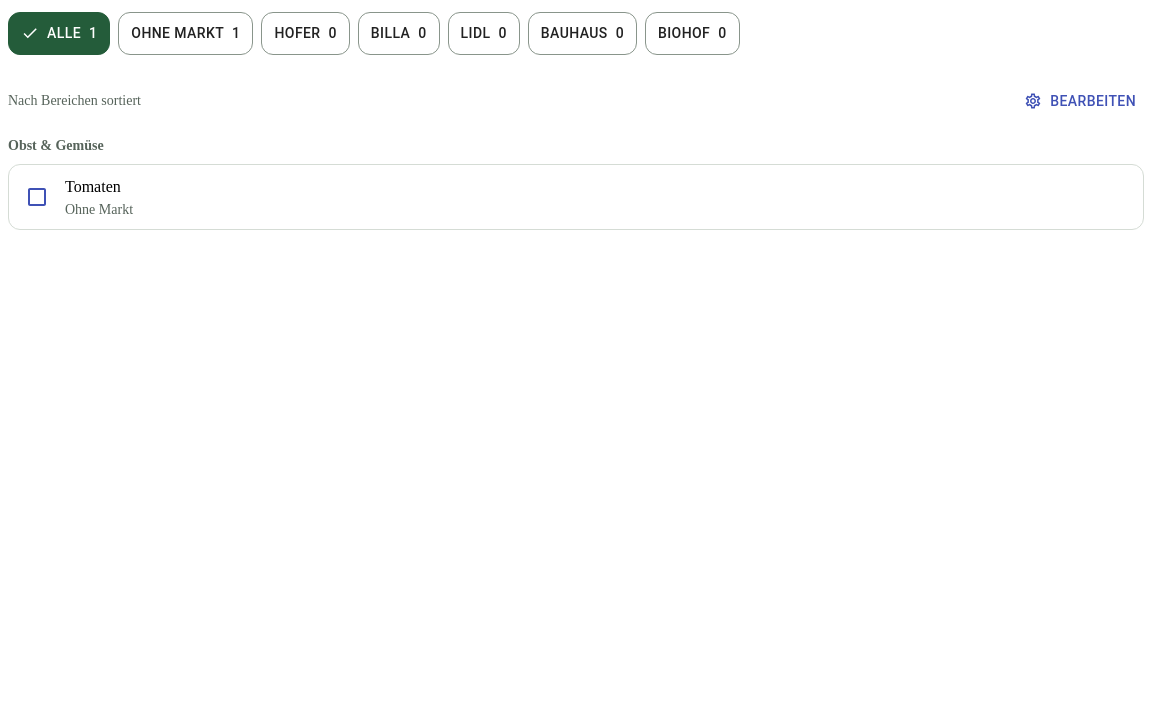
Test: retains a failed category draft across rollback and retries its destination
Click the button "Bearbeiten": click(1080, 101) [1016,82,1144,119]
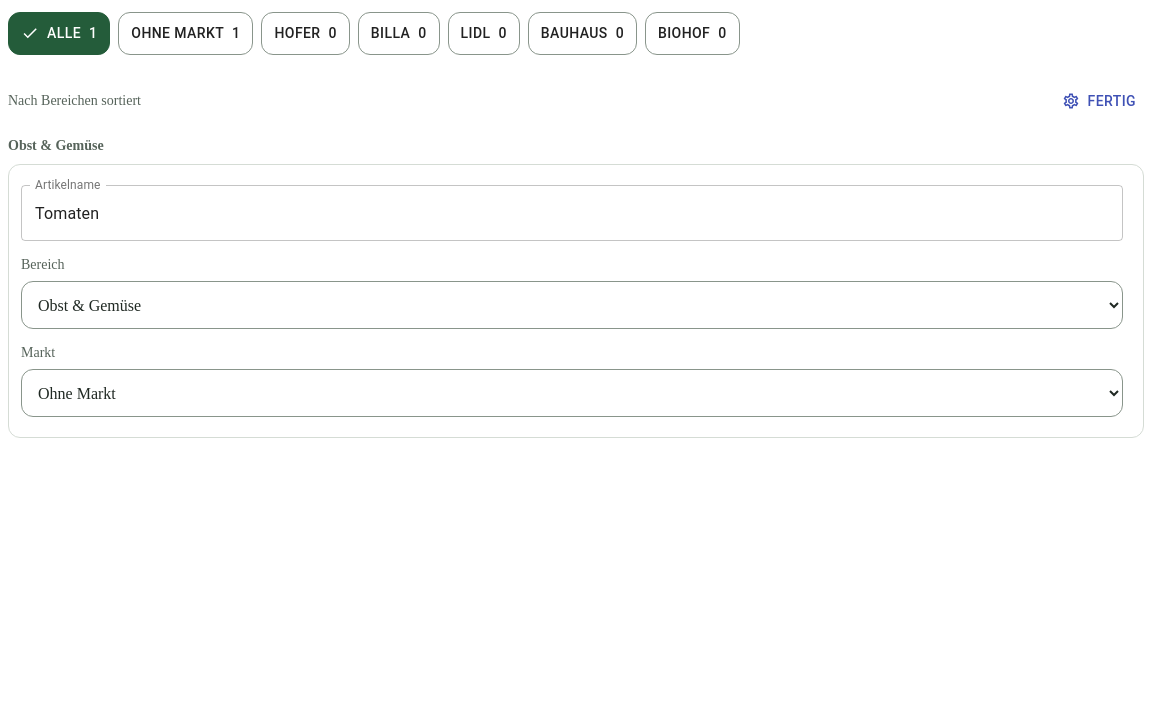
Select "Sonstiges" in the dropdown with id "grocery-area-tomato": (572, 305) [21,281,1123,329]
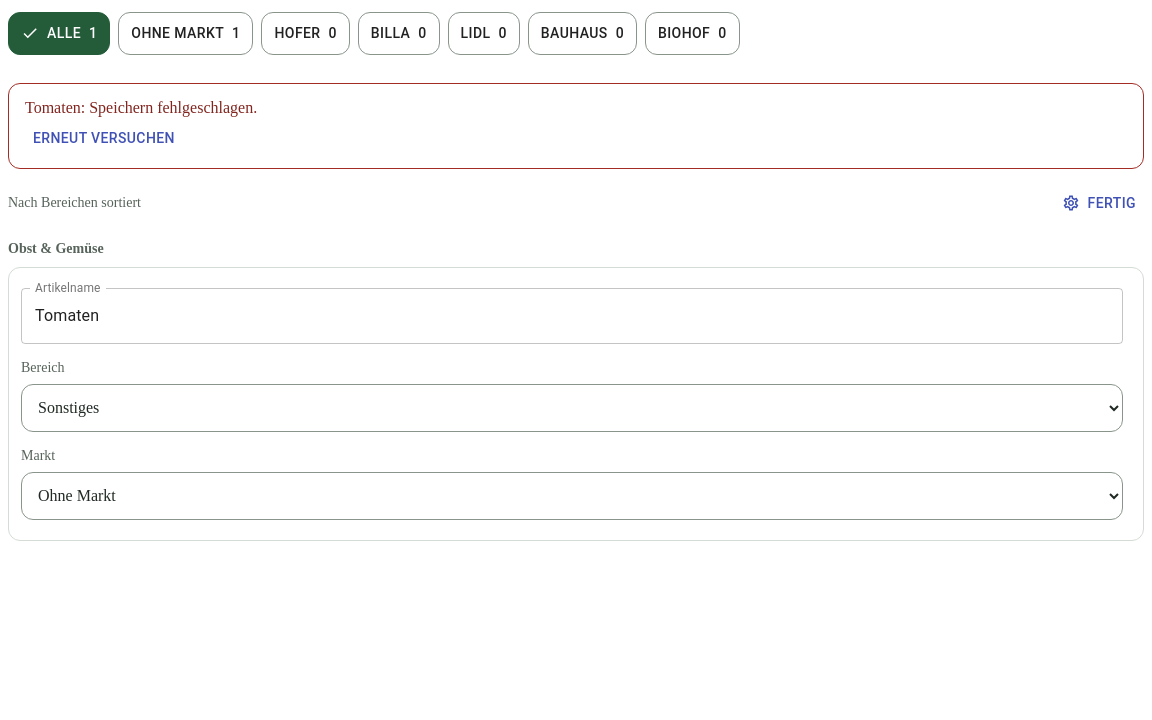
Expected: the message "Tomaten: Speichern fehlgeschlagen. Erneut versuchen" is shown, [8,82,1144,169]
Click the button "Erneut versuchen": click(104, 138) [25,120,183,156]
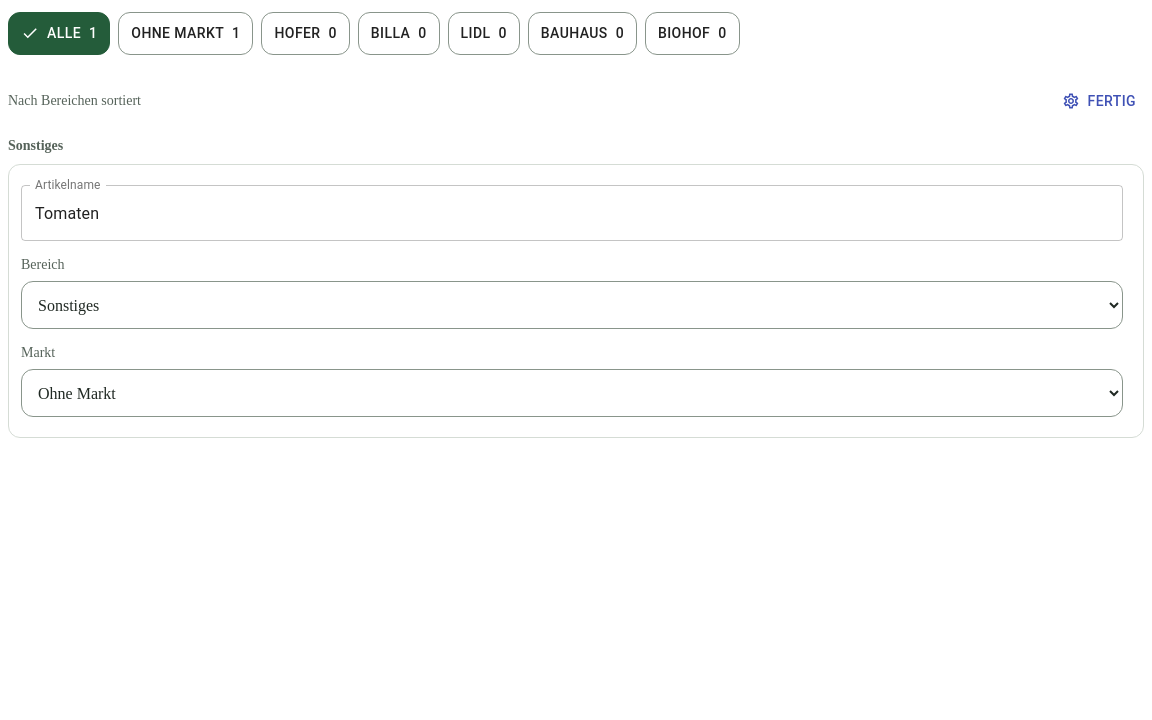
Expected: the message "Tomaten: Speichern fehlgeschlagen. Erneut versuchen" is gone
